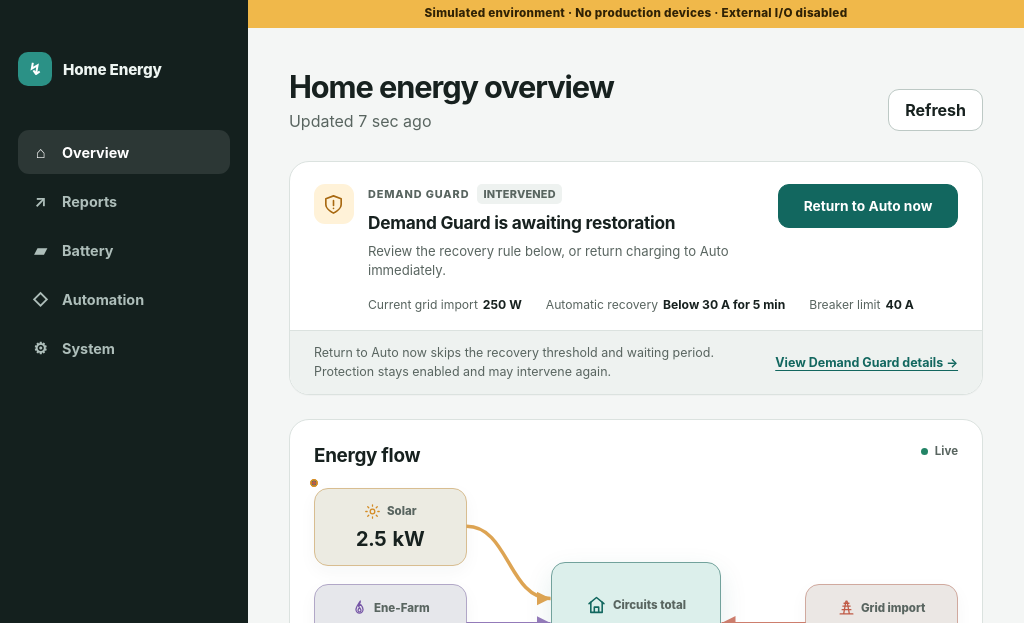
Test: React application shell › keeps a failed Demand Guard restoration actionable with the backend error
This screenshot has width=1024, height=623.
Click the button "Return to Auto now".
click(868, 206)  # box [778,184,958,228]
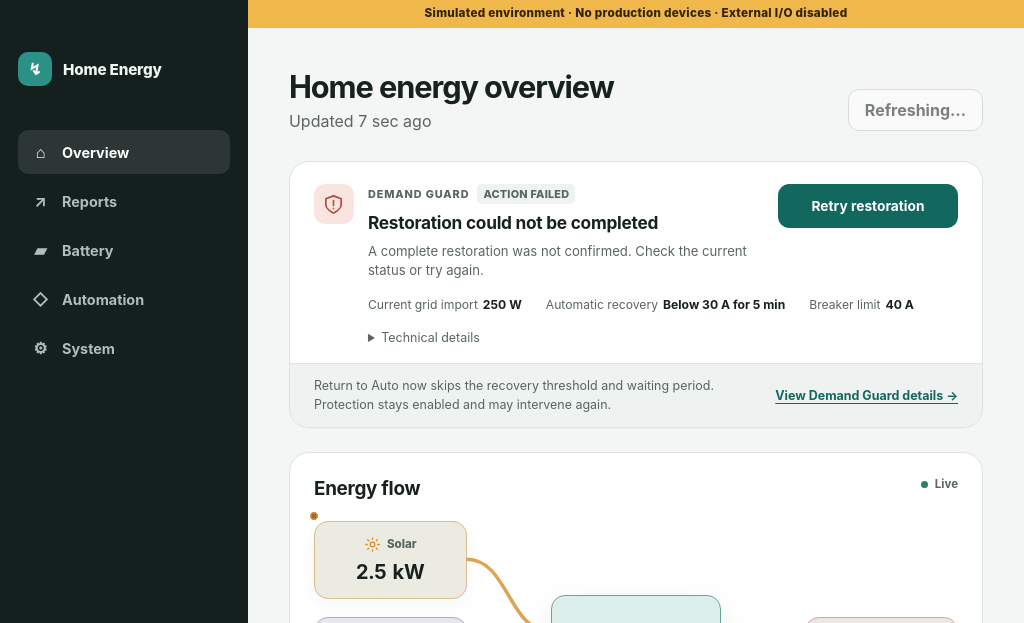
expect the 2nd message is shown: met, box [368,242,764,281]
Click the heading "Technical details".
click(424, 337)  # box [368,330,480,345]
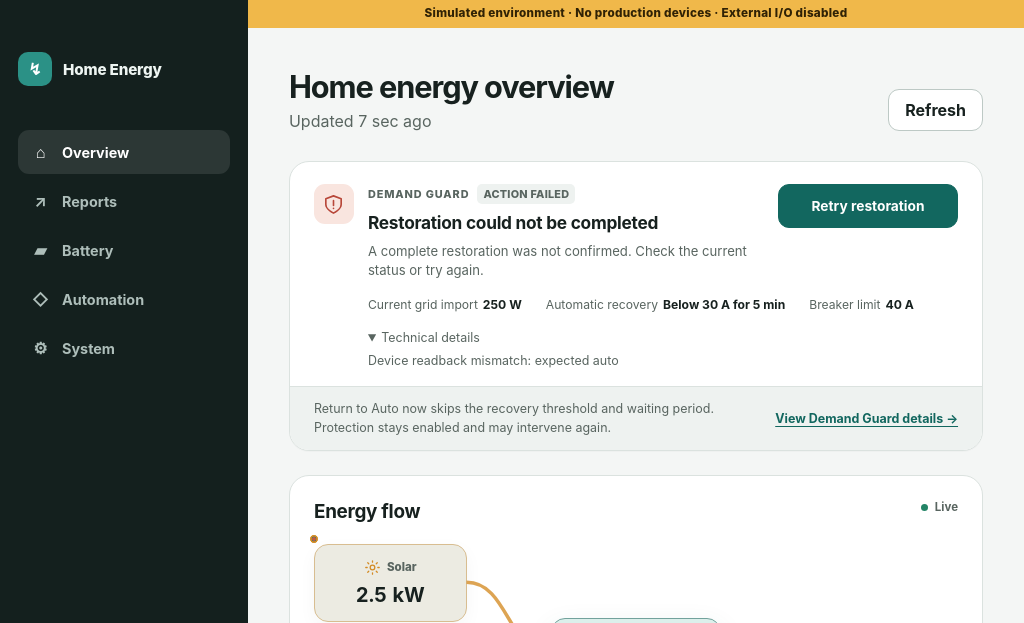
expect the button "Retry restoration" is enabled: met, box [778,184,958,228]
expect the text "Device readback mismatch: expected auto" is shown: met, box [368,353,619,368]
